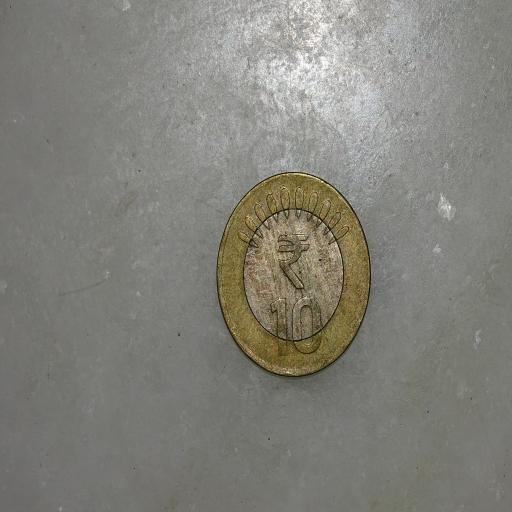rupee10: (216, 171, 374, 378)
